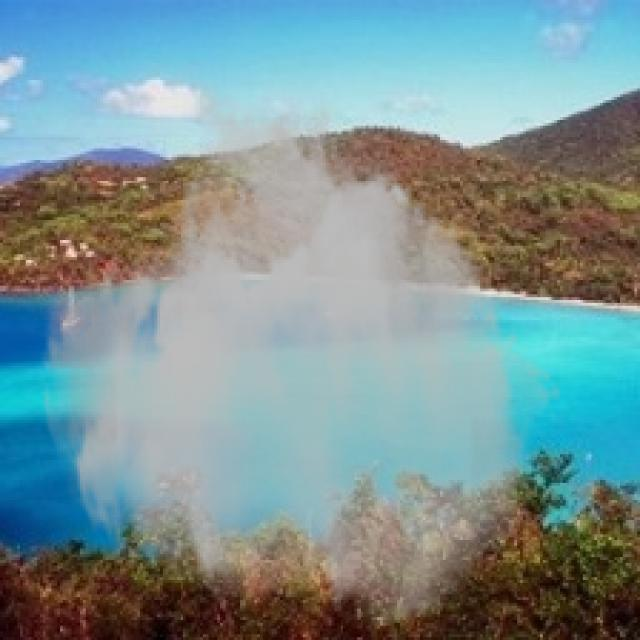Smoke: (37, 79, 563, 632)
